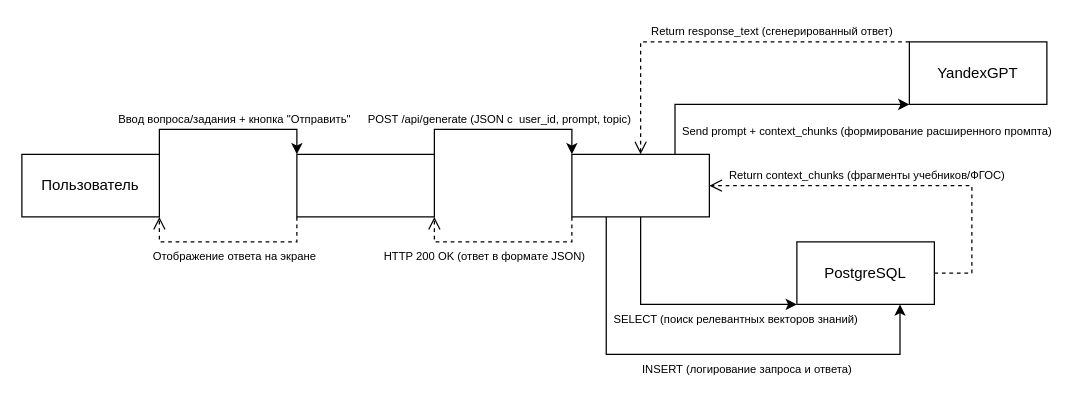
Image size: 1074x396. Some labels were removed from this diagram. Here are the shapes that lost their labels. From the top down, the centre of each, then its label:
At (x=365, y=185): "Moodle".
At (x=640, y=185): "FastAPI-шлюз".
